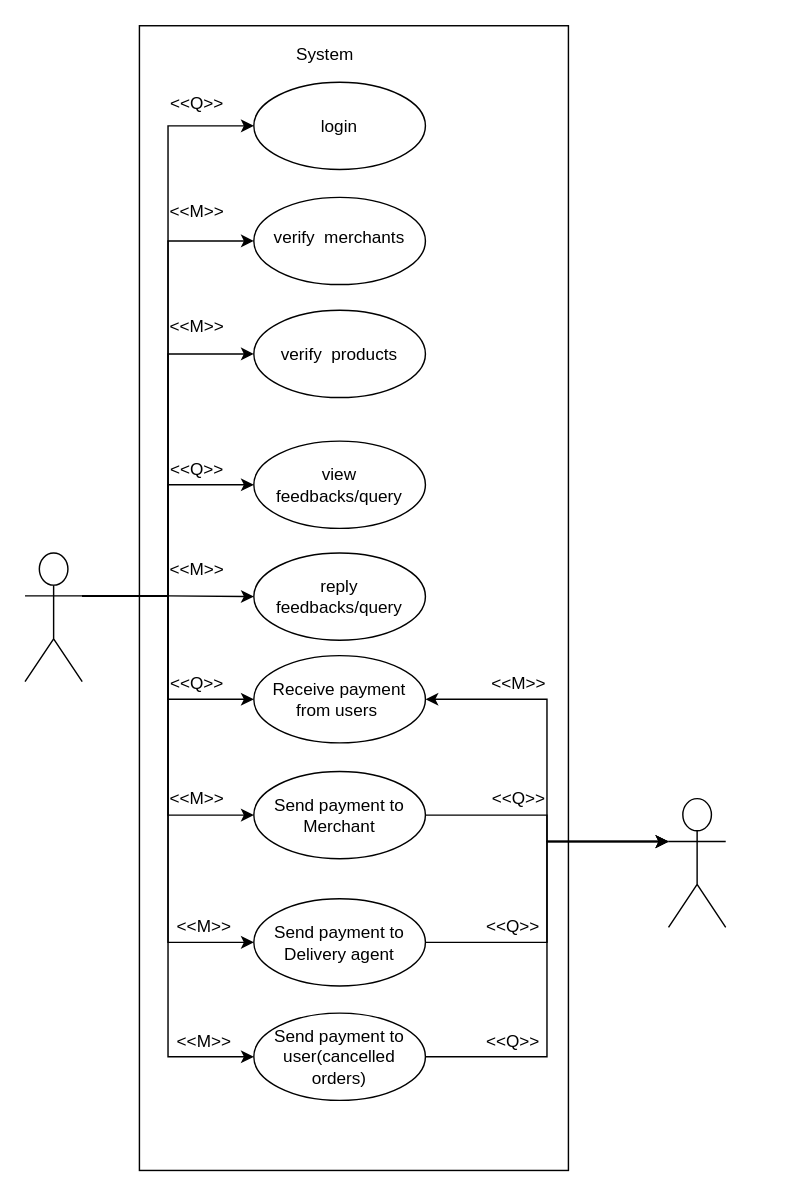
This 785x1195 diagram has some shape labels left out. The shapes that lost their labels are listed below. From the top down, each one's centre as x and y in pixels, then its label:
At pixel 53 617: "Admin".
At pixel 696 862: "Payment service".
